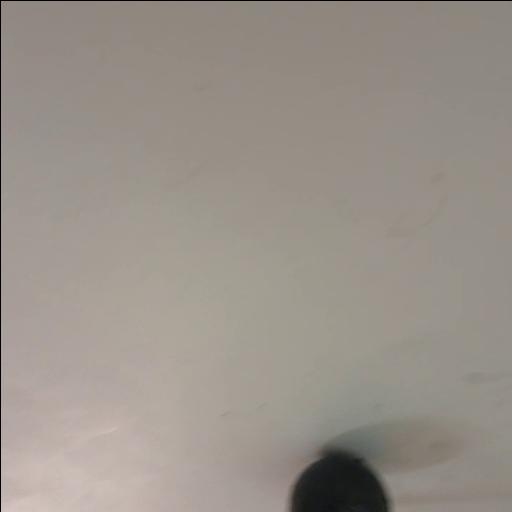dead: (288, 452, 390, 512)
